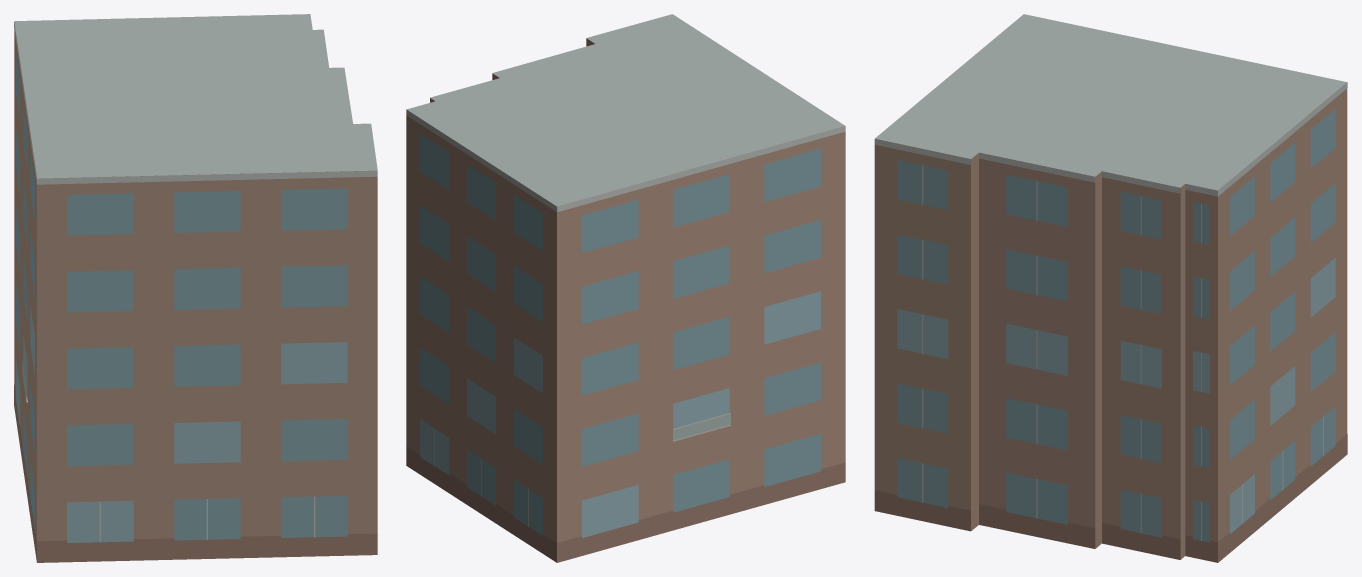
File: survey-upis-32656133.glb
3 renders of one model, left to right at view 1: azimuth 30°, elevation 25°; view 2: azimuth 150°, elevation 25°; view 3: azimuth 270°, elevation 25°, orthographic. The views are drawn at different scales.
Parts seen in each view (by area): view 1: survey-upis-32656133.tmp; view 2: survey-upis-32656133.tmp; view 3: survey-upis-32656133.tmp.
Boxes of the visible parts, x1,y1,x2,y2 form: survey-upis-32656133.tmp: (14, 14, 377, 562); survey-upis-32656133.tmp: (406, 14, 845, 562); survey-upis-32656133.tmp: (874, 14, 1347, 562).
Size of the model in its own units: 15.52 by 15.25 by 17.56.
